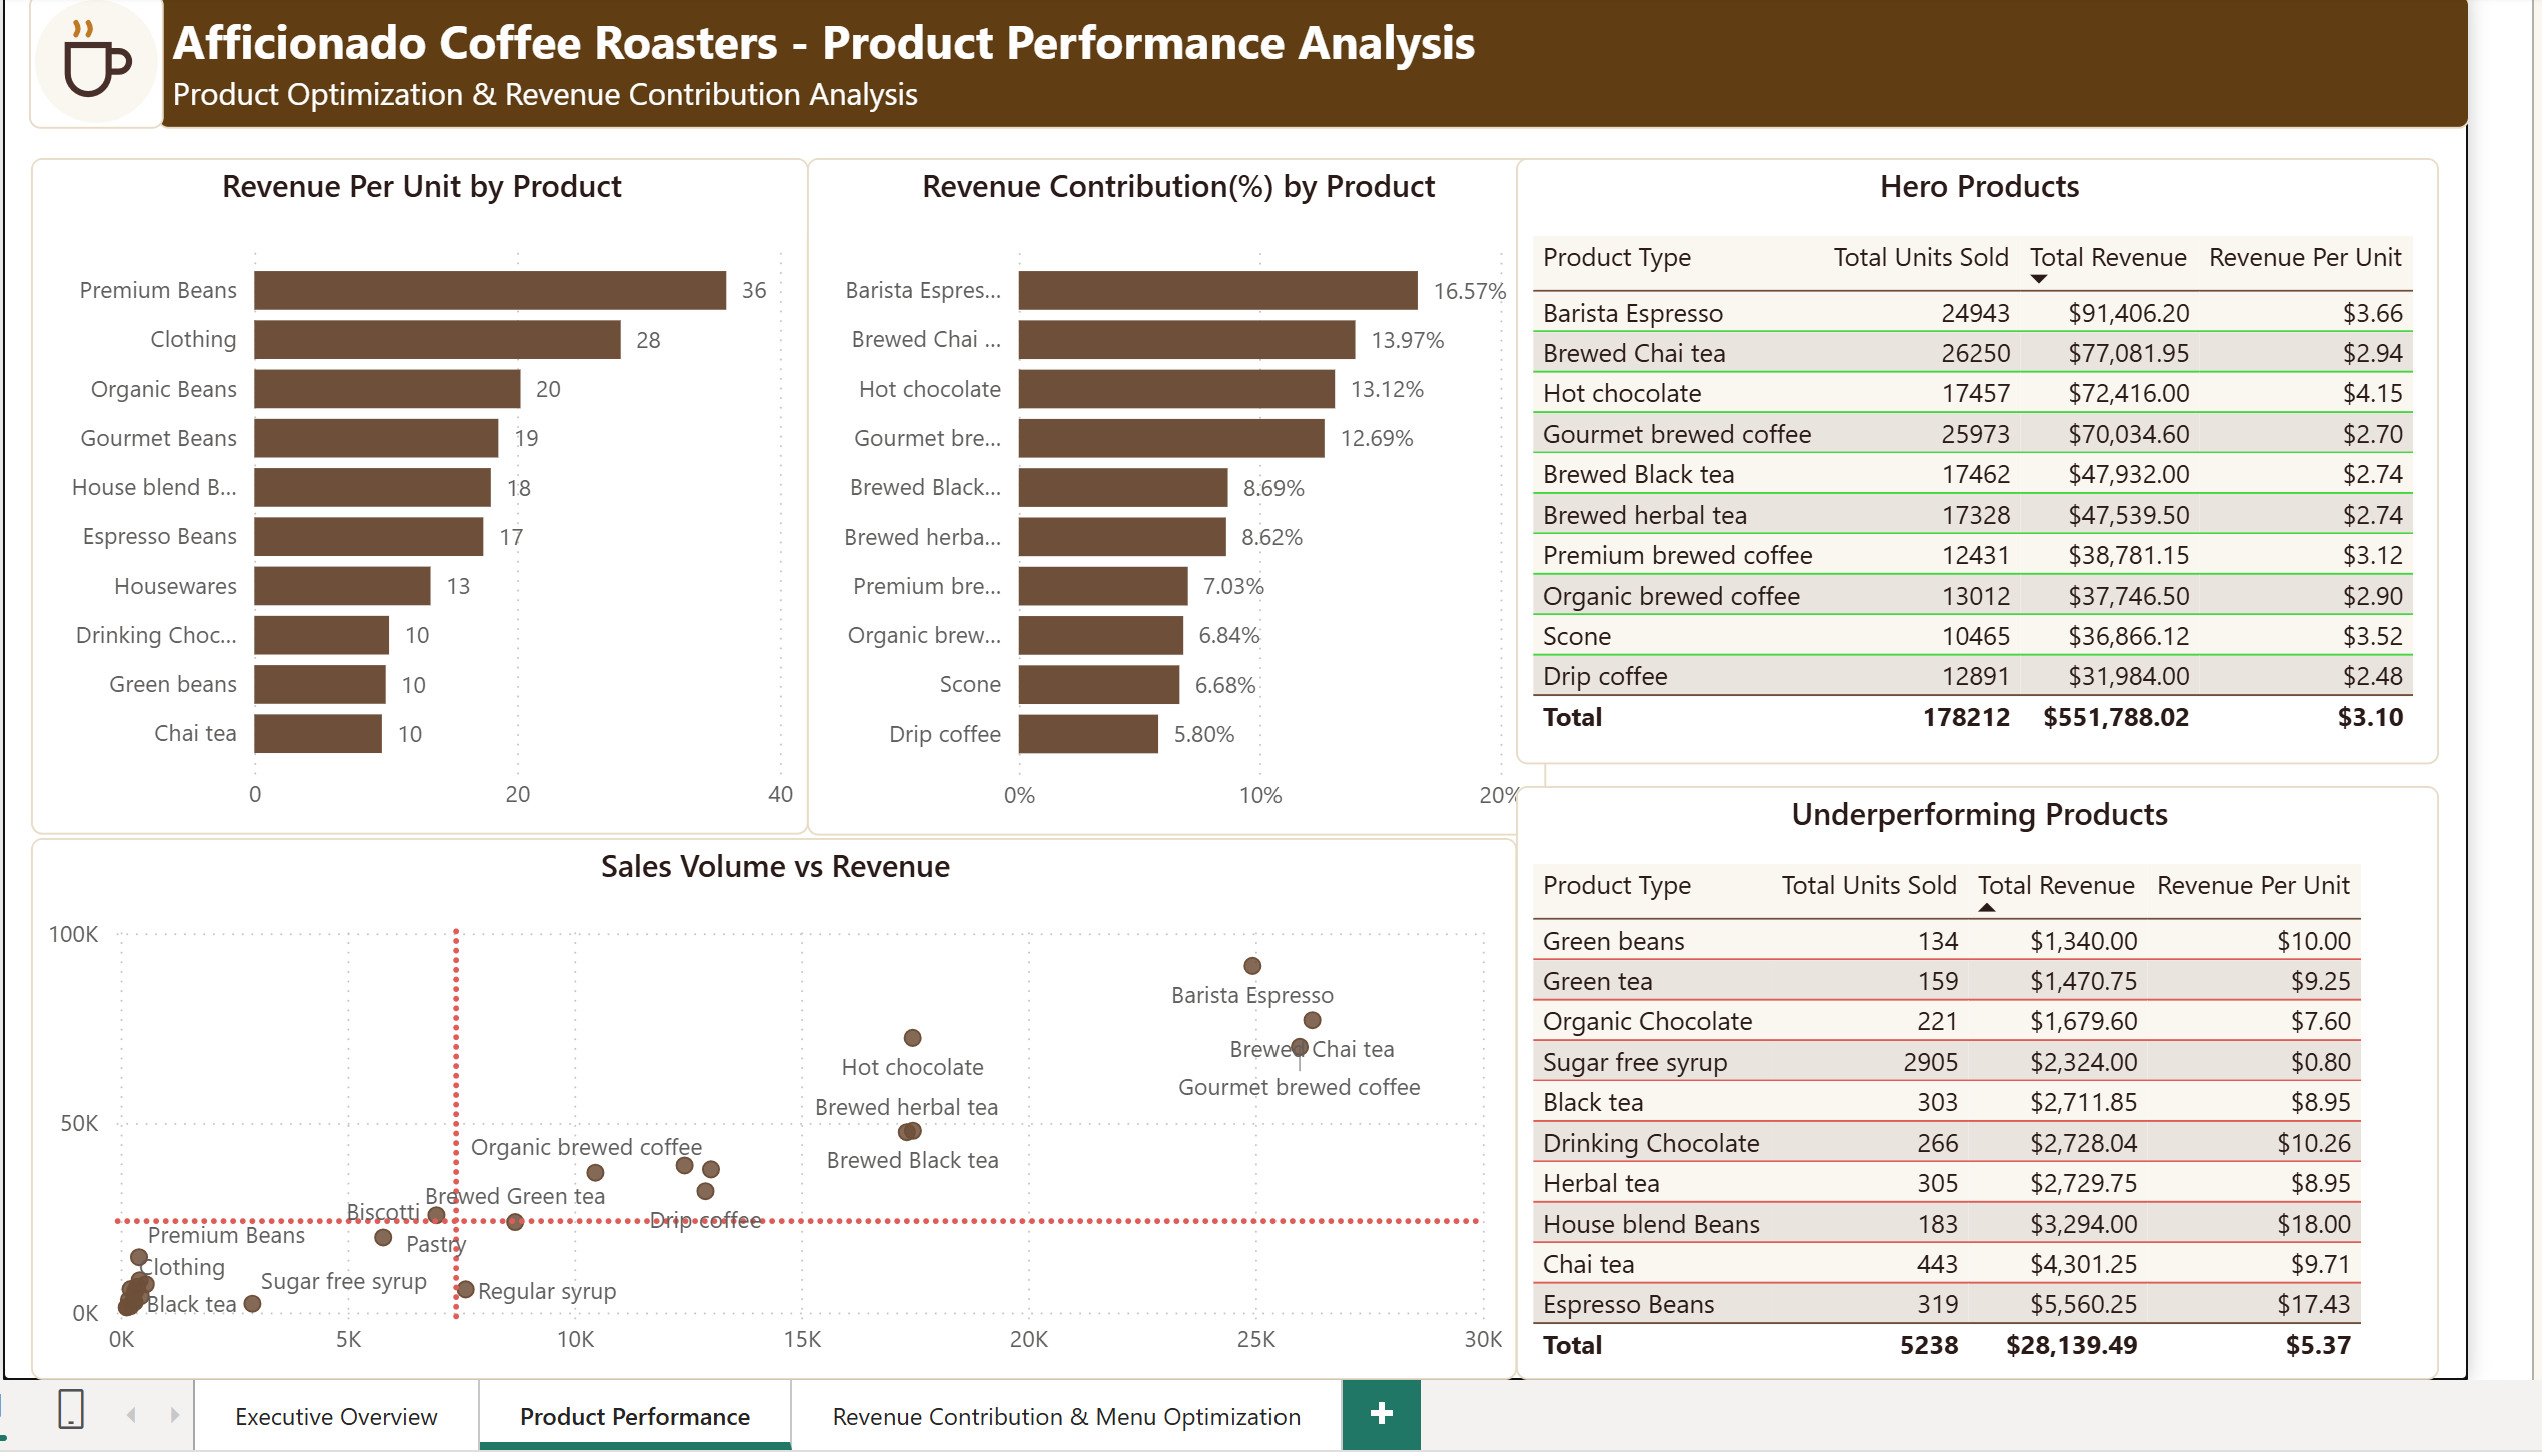

This screenshot's page, from the dashboard's own definition file:
{"tool":"powerbi","page":{"name":"Product Performance ","canvas":[1280,720],"ordinal":1},"visuals":[{"type":"textbox","box":[80.1,0,1201,70.1],"z":0},{"type":"barChart","title":"Revenue Per Unit by Product","fields":{"Category":["cleaned_coffee_sales.product_type"],"Y":["cleaned_coffee_sales.Revenue Per Unit"]},"box":[14.5,85.7,404,351.7],"z":1000},{"type":"barChart","title":"Revenue Contribution(%) by Product","fields":{"Category":["cleaned_coffee_sales.product_type"],"Y":["Sum(cleaned_coffee_sales.Revenue)"]},"box":[418.2,85.4,383.7,351.9],"z":2000},{"type":"scatterChart","title":"Sales Volume vs Revenue","fields":{"X":["cleaned_coffee_sales.Total Units Sold"],"Category":["cleaned_coffee_sales.product_type"],"Y":["cleaned_coffee_sales.Total Revenue"]},"box":[14.3,438,771.6,281.5],"z":3000},{"type":"tableEx","title":"Hero Products","fields":{"Values":["cleaned_coffee_sales.product_type","cleaned_coffee_sales.Total Units Sold","cleaned_coffee_sales.Total Revenue","cleaned_coffee_sales.Revenue Per Unit"]},"box":[785.8,85.7,479.7,315],"z":4000},{"type":"tableEx","title":"Underperforming Products","fields":{"Values":["cleaned_coffee_sales.product_type","cleaned_coffee_sales.Total Units Sold","cleaned_coffee_sales.Total Revenue","cleaned_coffee_sales.Revenue Per Unit"]},"box":[785.8,411.8,479.7,308.3],"z":5000},{"type":"image","box":[13.4,0,70,70],"z":6000}]}

Visuals, with their boxes on the page's 1280x720 design canvas (x1, y1, x2, y2). These are canvas units, not pixel positions in the 2542x1452 screenshot, which may show the page scaled, cropped or inside an application window:
textbox: select_region(80, 0, 1281, 70)
"Revenue Per Unit by Product" barChart: select_region(14, 86, 418, 437)
"Revenue Contribution(%) by Product" barChart: select_region(418, 85, 802, 437)
"Sales Volume vs Revenue" scatterChart: select_region(14, 438, 786, 720)
"Hero Products" tableEx: select_region(786, 86, 1266, 401)
"Underperforming Products" tableEx: select_region(786, 412, 1266, 720)
image: select_region(13, 0, 83, 70)
